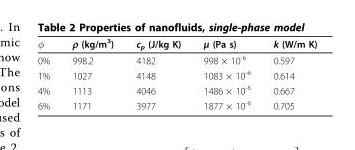table: (36, 36, 316, 111)
table column: (191, 36, 261, 111), (124, 36, 191, 111), (60, 36, 124, 111), (261, 36, 316, 111), (36, 36, 60, 111)
table column header: (36, 36, 316, 51)
table row: (36, 51, 316, 67), (36, 36, 316, 51), (36, 67, 316, 82), (36, 82, 316, 97), (36, 97, 316, 111)
